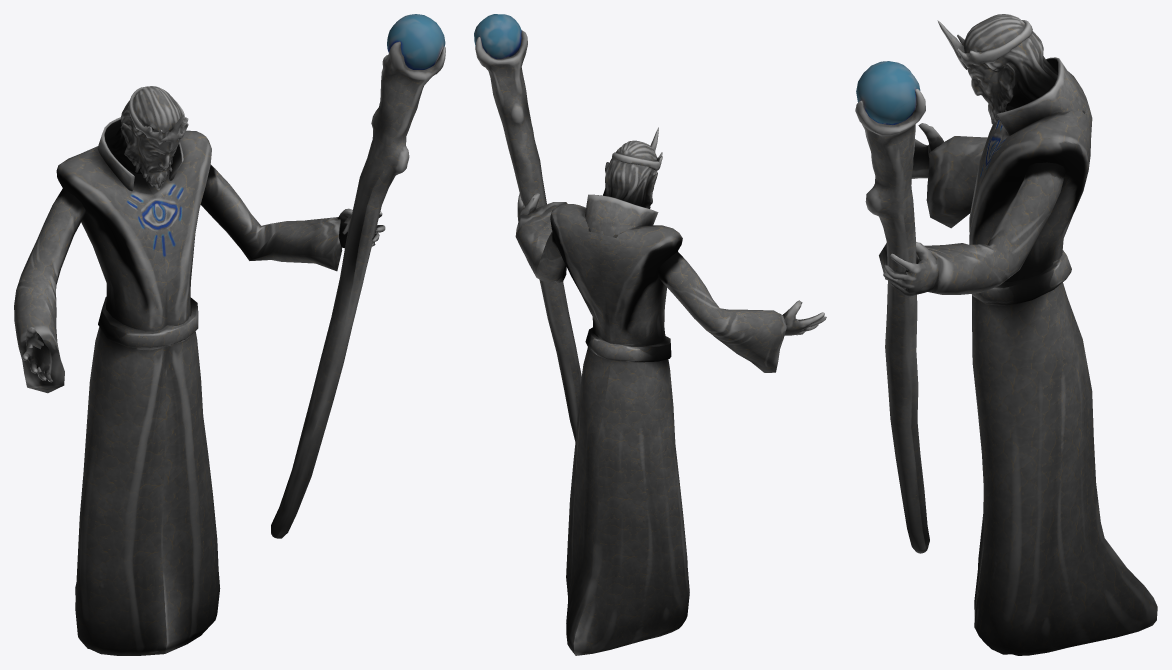
Rendered from Statue 2.fbx.
The picture shows the model from 3 angles, left to right: view 1: azimuth 30°, elevation 25°; view 2: azimuth 150°, elevation 25°; view 3: azimuth 270°, elevation 25°; orthographic projection. The views are drawn at different scales.
Visible parts, largest first — view 1: Statue_2; view 2: Statue_2; view 3: Statue_2.
Boxes of the visible parts, x1,y1,x2,y2 form: Statue_2: (14,14,445,655); Statue_2: (474,14,826,655); Statue_2: (855,14,1157,655).
Size of the model in its own units: 12.44 by 17.81 by 7.18.
